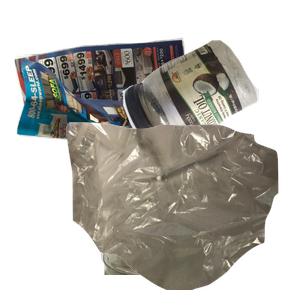glass: (98, 120, 286, 300)
paper: (12, 31, 196, 204)
plastic: (120, 37, 300, 185)
trash: (64, 120, 300, 300)
